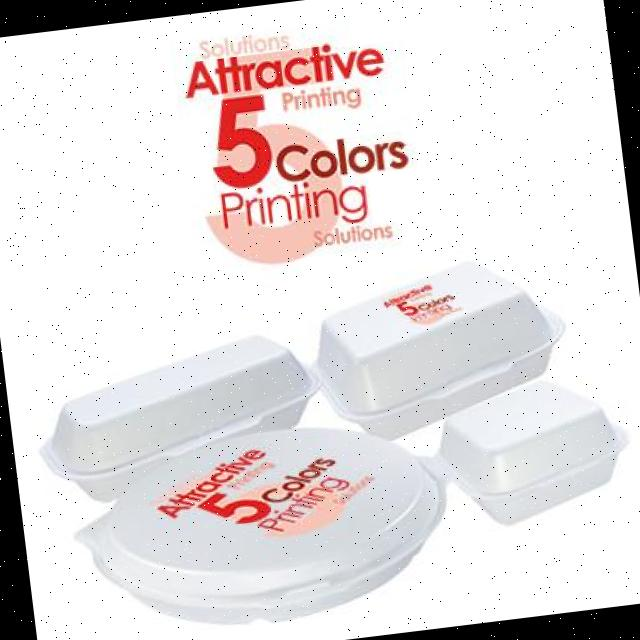styrofoam: (62, 408, 459, 640), (27, 324, 330, 508), (302, 247, 574, 448), (428, 366, 634, 532)
